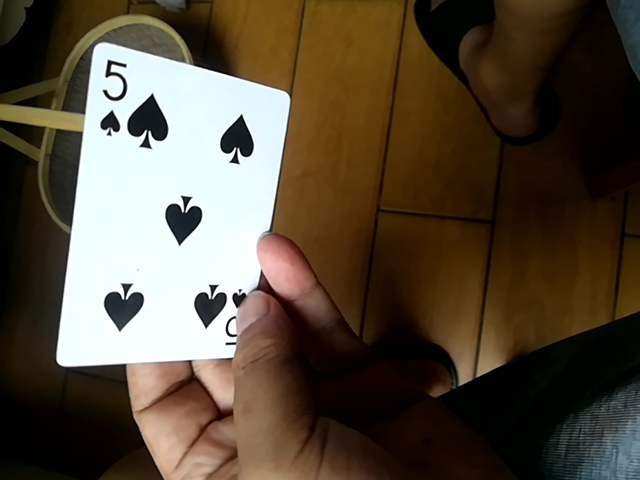ht 5: (60, 44, 282, 376)
